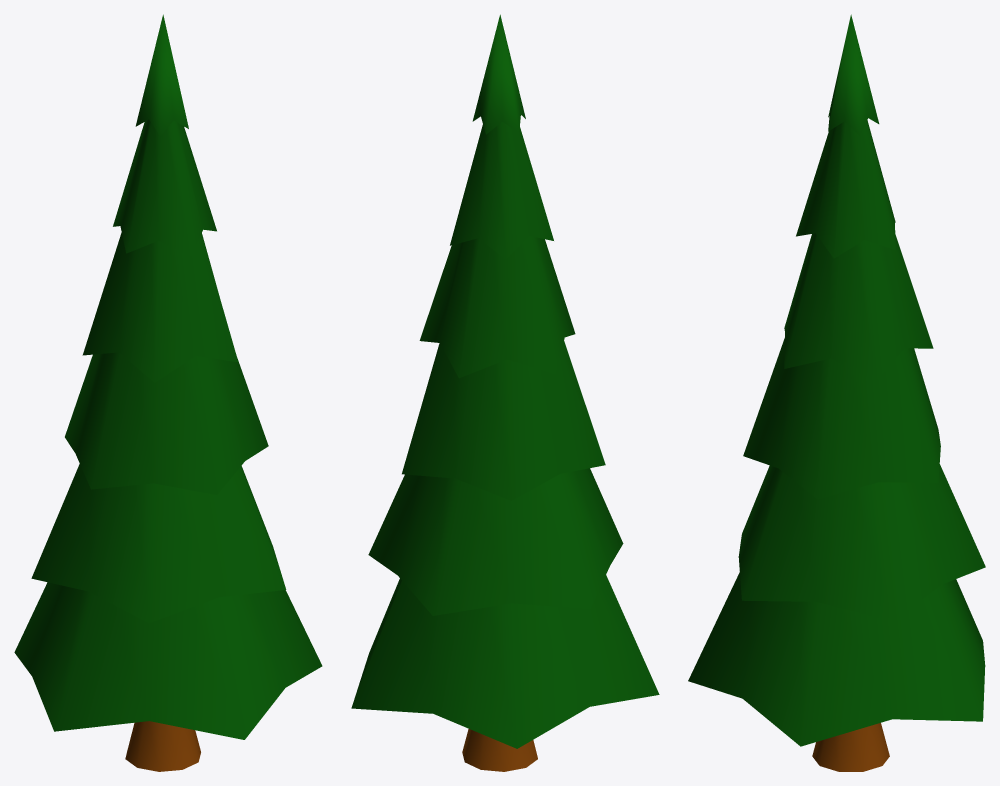
The model's file is Pine_Tree.fbx.
The picture shows the model from 3 angles, left to right: view 1: azimuth 30°, elevation 25°; view 2: azimuth 150°, elevation 25°; view 3: azimuth 270°, elevation 25°; orthographic projection.
Visible parts, largest first — view 1: Cylinder; view 2: Cylinder; view 3: Cylinder.
Boxes of the visible parts, x1,y1,x2,y2 form: Cylinder: [14, 14, 322, 771]; Cylinder: [351, 14, 659, 771]; Cylinder: [688, 14, 985, 771].
Size of the model in its own units: 330 by 871 by 317.
